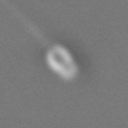normal: (1, 1, 50, 45)
